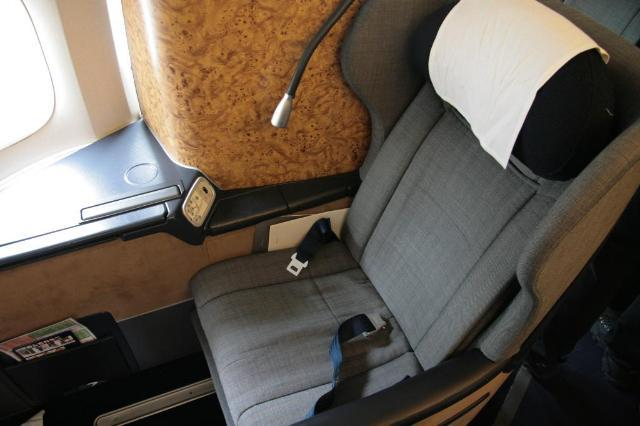Seatbelt: (284, 218, 334, 276)
